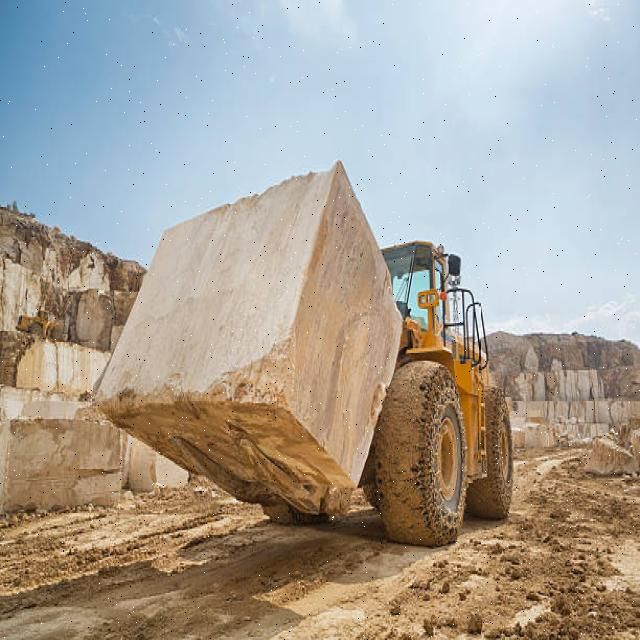Metamorphic: (98, 216, 406, 502)
